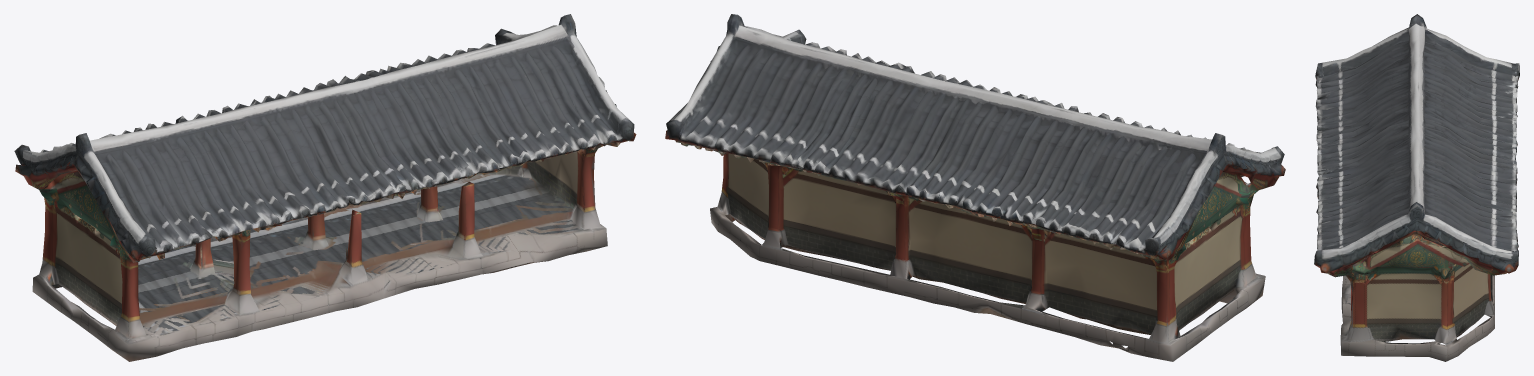
Rendered from PR_Haenggak.fbx.
3 renders of one model, left to right at view 1: azimuth 30°, elevation 25°; view 2: azimuth 150°, elevation 25°; view 3: azimuth 270°, elevation 25°, orthographic. The views are drawn at different scales.
Parts seen in each view (by area): view 1: texture_mapping; view 2: texture_mapping; view 3: texture_mapping.
Boxes of the visible parts, x1,y1,x2,y2 form: texture_mapping: [14, 14, 636, 361]; texture_mapping: [665, 14, 1285, 361]; texture_mapping: [1314, 14, 1519, 361].
Bounding box in the file's own units: 1 × 0.4448 × 0.3769.
Materials: 1 (1 with a texture image).
